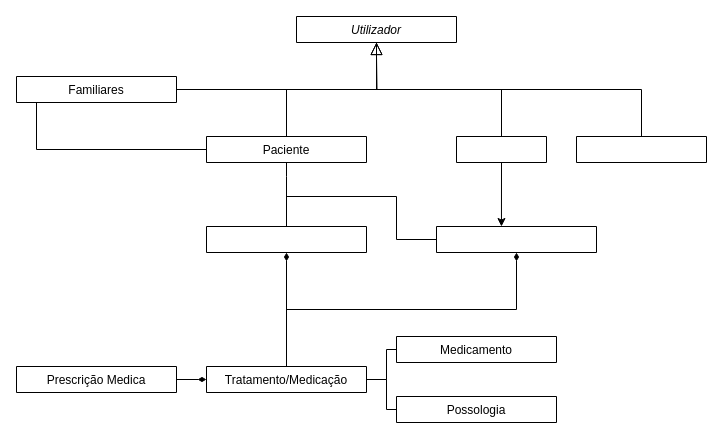
Image size: 723x439. Some labels were removed from this diagram. Here are the shapes that lost their labels. From the top down, the centre of each, then its label:
point 501,149: Medicos
point 641,149: Profissionais de Saúde
point 286,239: Notificações
point 516,239: Historico de Tratamento
